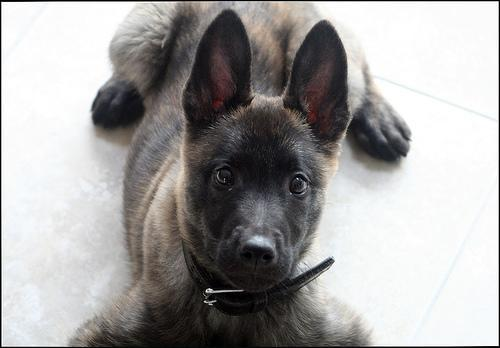German_shepherd: (63, 0, 414, 347)
